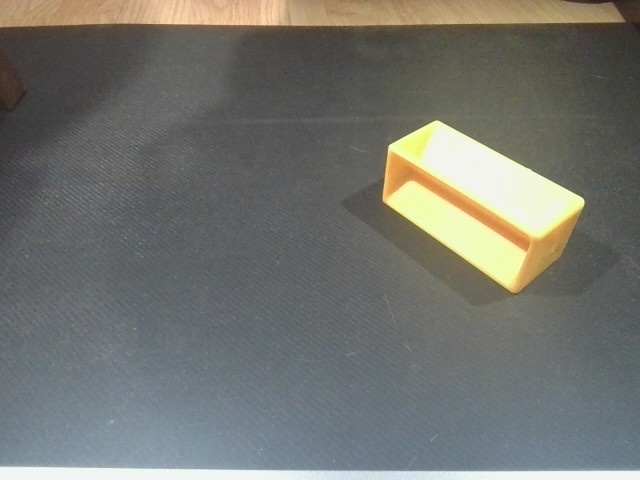YellowSample: (380, 117, 588, 298)
